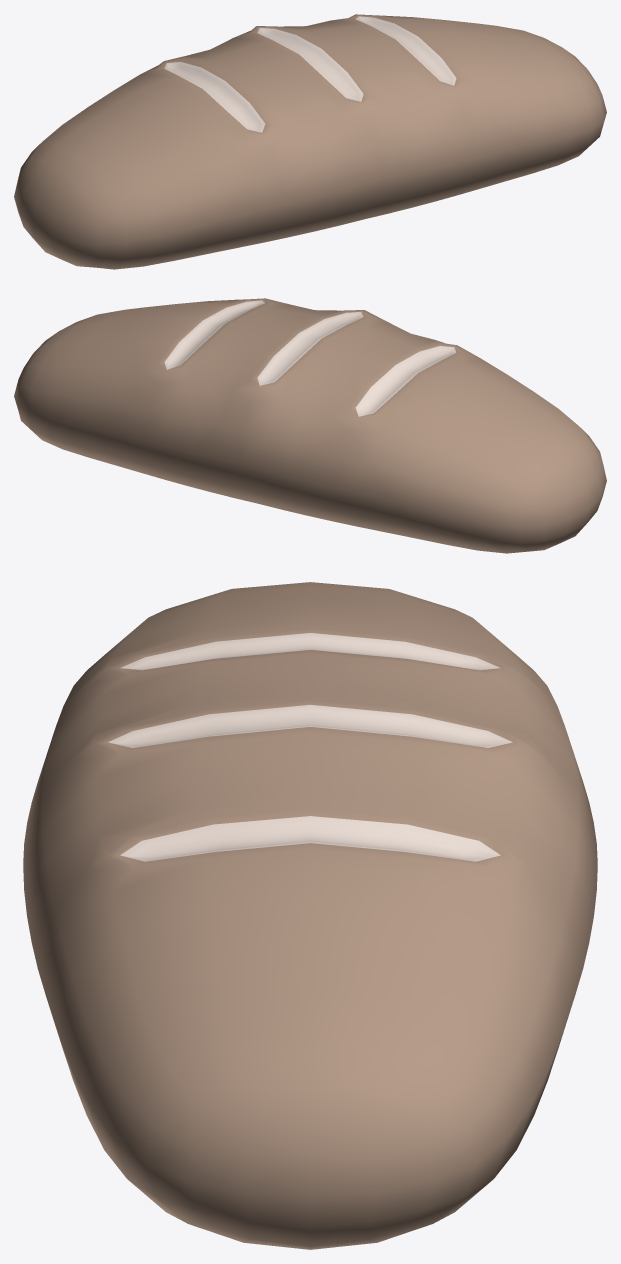
The model's file is Bread.glb.
The picture shows the model from 3 angles, top to bottom: view 1: azimuth 30°, elevation 25°; view 2: azimuth 150°, elevation 25°; view 3: azimuth 270°, elevation 25°; orthographic projection. The views are drawn at different scales.
Parts seen in each view (by area): view 1: Bread_1; view 2: Bread_1; view 3: Bread_1.
Boxes of the visible parts, x1,y1,x2,y2 form: Bread_1: (14, 14, 606, 269); Bread_1: (14, 298, 606, 553); Bread_1: (23, 582, 597, 1249).
Bounding box in the file's own units: 0.5929 × 0.1525 × 0.265.
Materials: 1 (1 with a texture image).
